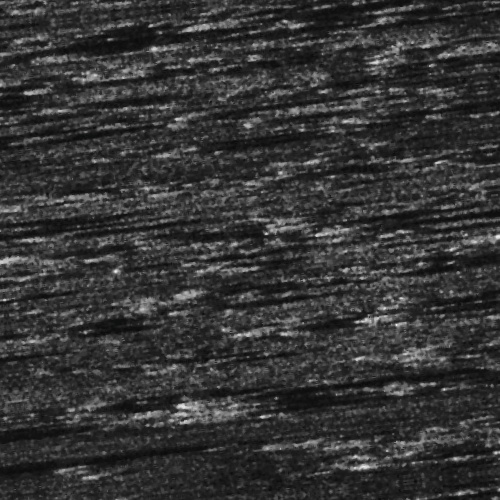object: (115, 380, 240, 405), (116, 401, 251, 416), (321, 322, 446, 337), (267, 466, 382, 481), (148, 30, 273, 39), (12, 78, 127, 87), (217, 323, 290, 334), (336, 125, 409, 134), (196, 15, 279, 22), (303, 164, 366, 169), (11, 207, 74, 212), (0, 226, 63, 231), (157, 139, 220, 144), (385, 245, 426, 252), (151, 297, 204, 302), (184, 104, 225, 109), (325, 238, 378, 241), (488, 485, 500, 490)
shadow: (178, 380, 450, 405), (0, 191, 101, 218), (0, 430, 192, 443), (184, 401, 340, 416), (238, 15, 500, 22), (384, 322, 500, 337), (211, 30, 370, 39), (0, 108, 126, 119), (325, 466, 407, 481), (373, 125, 500, 134), (4, 23, 221, 28), (69, 78, 182, 87), (254, 323, 336, 334), (204, 104, 365, 109), (43, 207, 194, 212), (406, 245, 500, 252), (335, 164, 463, 169), (189, 139, 309, 144), (178, 297, 297, 302), (31, 226, 144, 231), (0, 399, 47, 410), (0, 103, 92, 108), (352, 238, 500, 241), (0, 264, 74, 269), (0, 323, 51, 328)
